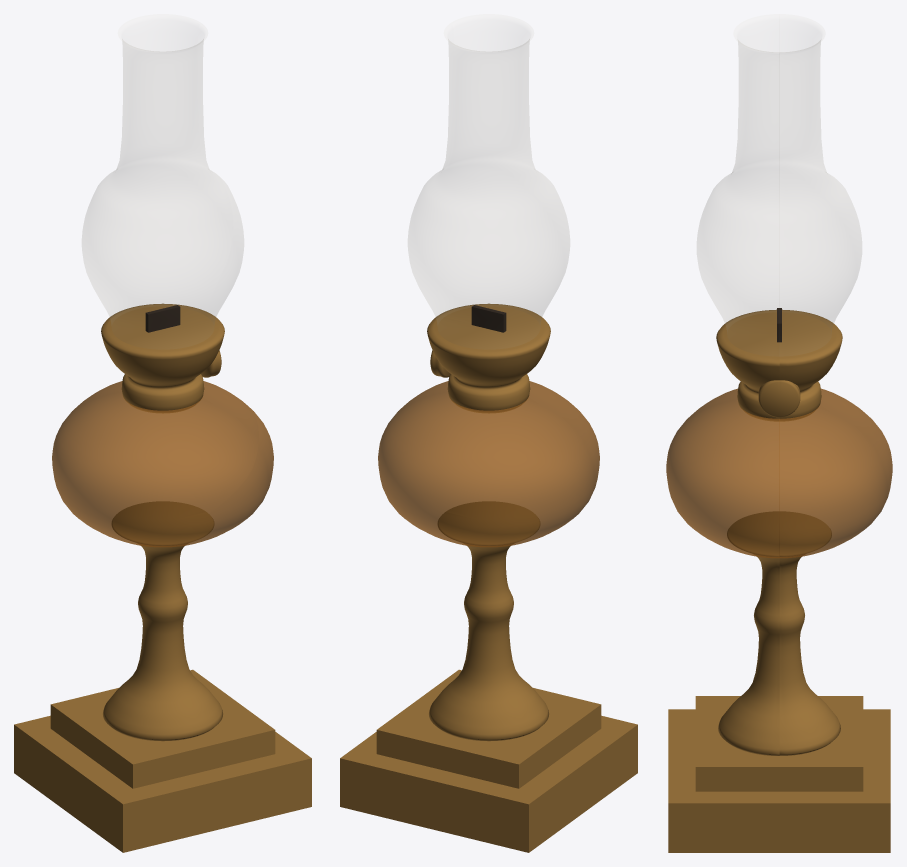
File: oil-lamp.glb
3 views of the same model, side by side, from view 1: azimuth 30°, elevation 25°; view 2: azimuth 150°, elevation 25°; view 3: azimuth 270°, elevation 25° (orthographic). The views are drawn at different scales.
Parts seen in each view (by area): view 1: Chimney, Font, Foot, Stem, FootStep, Burner, Wick; view 2: Chimney, Font, Foot, Stem, FootStep, Burner, Wick; view 3: Chimney, Font, Foot, Stem, FootStep, Burner, WickKnob.
Boxes of the visible parts, x1,y1,x2,y2 form: Chimney: (82,39,243,324); Font: (52,381,273,547); Foot: (14,715,311,852); Stem: (103,501,222,741); FootStep: (50,669,275,788); Burner: (101,303,224,413); Wick: (145,305,180,332); Chimney: (408,39,569,324); Font: (378,381,599,547); Foot: (340,715,637,852); Stem: (429,501,548,741); FootStep: (376,669,601,788); Burner: (427,303,550,413); Wick: (471,305,506,332); Chimney: (697,39,861,331); Font: (666,388,892,558); Foot: (668,709,890,852); Stem: (718,511,840,755); FootStep: (695,696,863,791); Burner: (716,309,842,421); WickKnob: (758,380,800,417).
Size of the model in its own units: 0.1323 by 0.498 by 0.1323.
